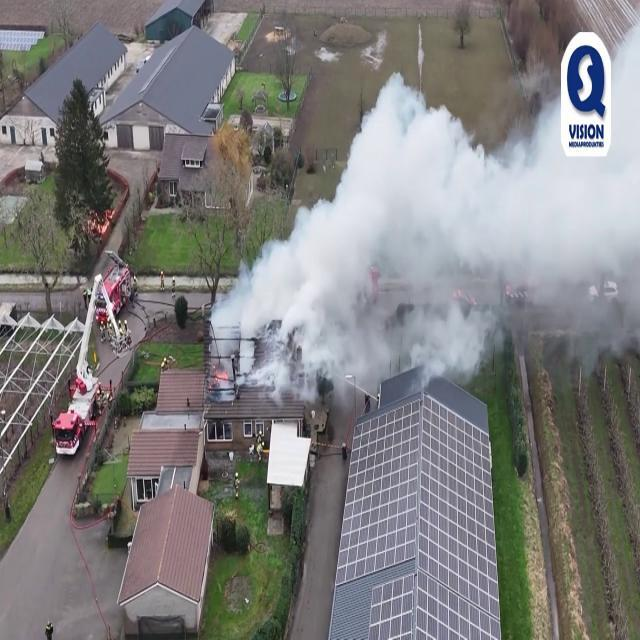Smoke: (213, 51, 640, 399)
